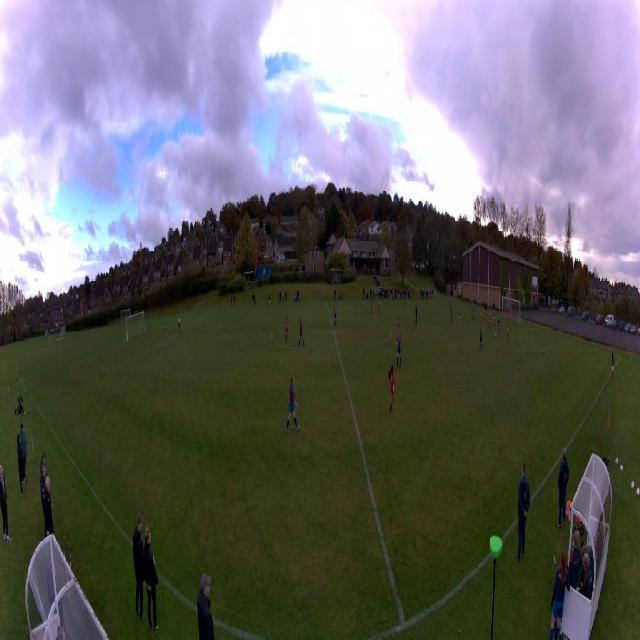ball: (495, 333, 496, 337)
player: (285, 375, 301, 435), (388, 365, 396, 417), (396, 331, 402, 367), (299, 319, 306, 346), (395, 318, 400, 346), (479, 327, 483, 351), (333, 305, 337, 326), (506, 325, 510, 343), (285, 317, 288, 341), (415, 304, 418, 326), (489, 315, 493, 331), (497, 318, 501, 334), (479, 306, 482, 326), (458, 309, 461, 328), (492, 310, 495, 328), (178, 315, 181, 333), (472, 304, 475, 321), (378, 297, 381, 313), (510, 308, 513, 324), (450, 299, 453, 314), (371, 299, 373, 315), (451, 310, 453, 326)
